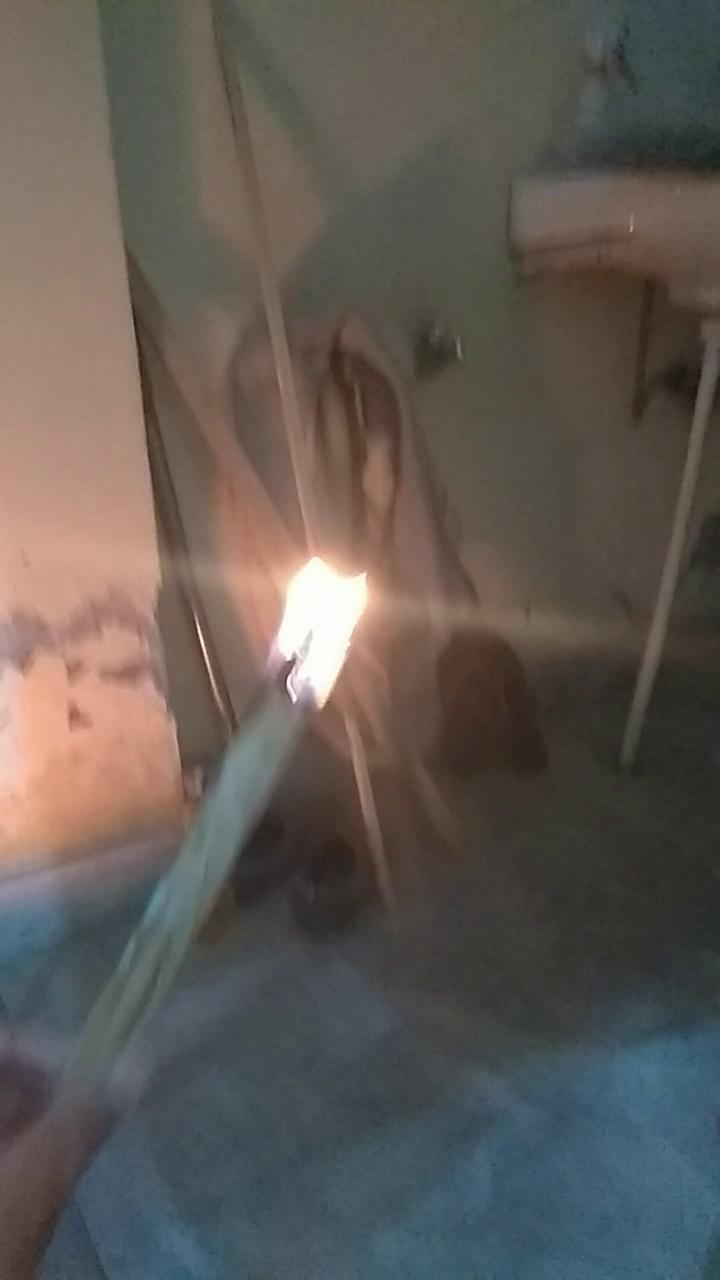fire: (244, 502, 385, 725)
